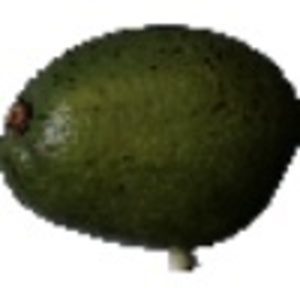abacate: (1, 17, 299, 244)
